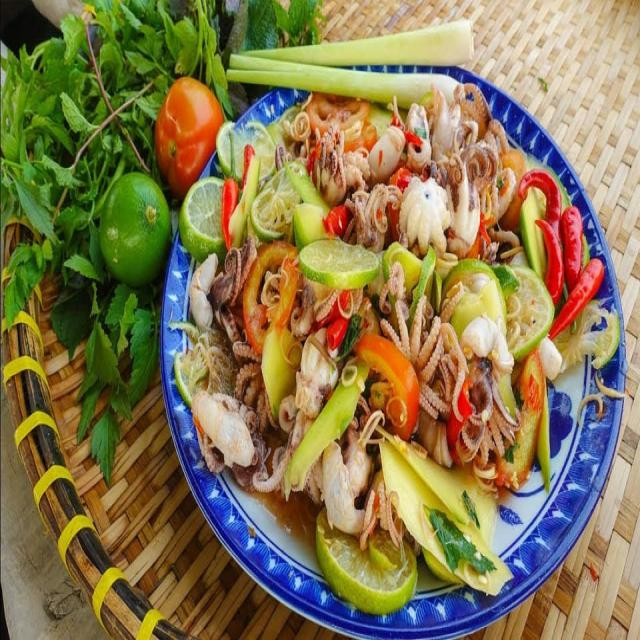bach tuoc sa tac: (172, 18, 623, 611)
